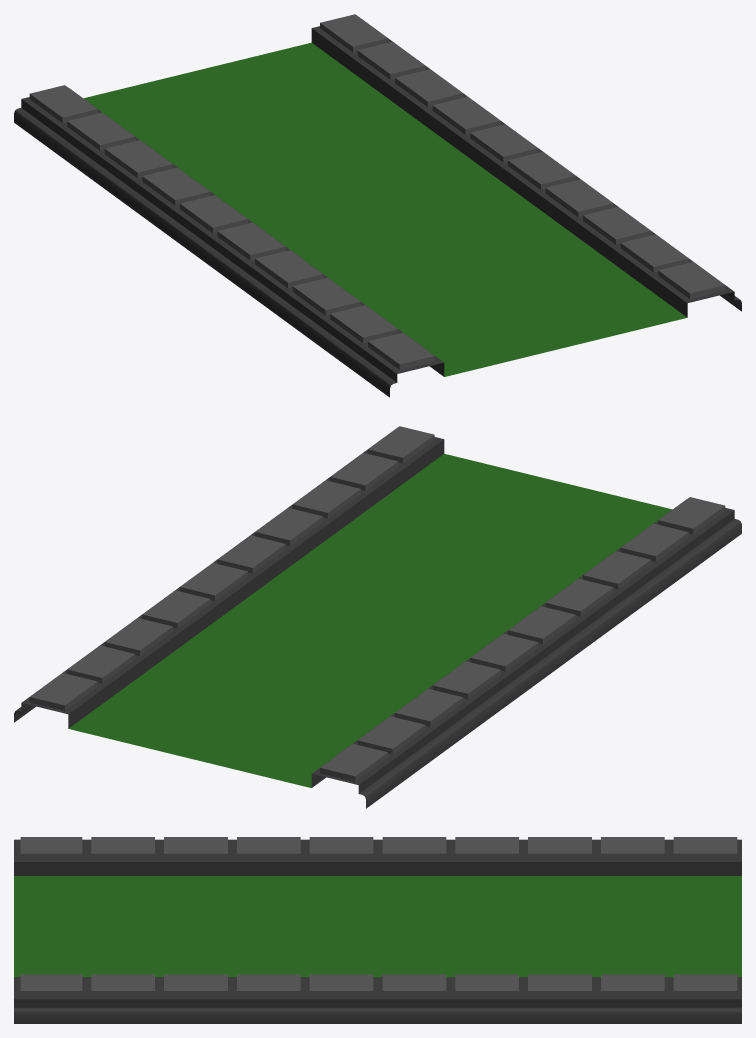
Rendered from mdl_poland_grass.gltf.
The picture shows the model from 3 angles, top to bottom: view 1: azimuth 30°, elevation 25°; view 2: azimuth 150°, elevation 25°; view 3: azimuth 270°, elevation 25°; orthographic projection. The views are drawn at different scales.
Visible parts, largest first — view 1: Cube.028; view 2: Cube.028; view 3: Cube.028.
Boxes of the visible parts, x1,y1,x2,y2 form: Cube.028: (14,14,741,397); Cube.028: (14,426,741,808); Cube.028: (14,837,741,1023).
Bounding box in the file's own units: 1.08 × 0.0806 × 2.
Materials: 1 (1 with a texture image).
